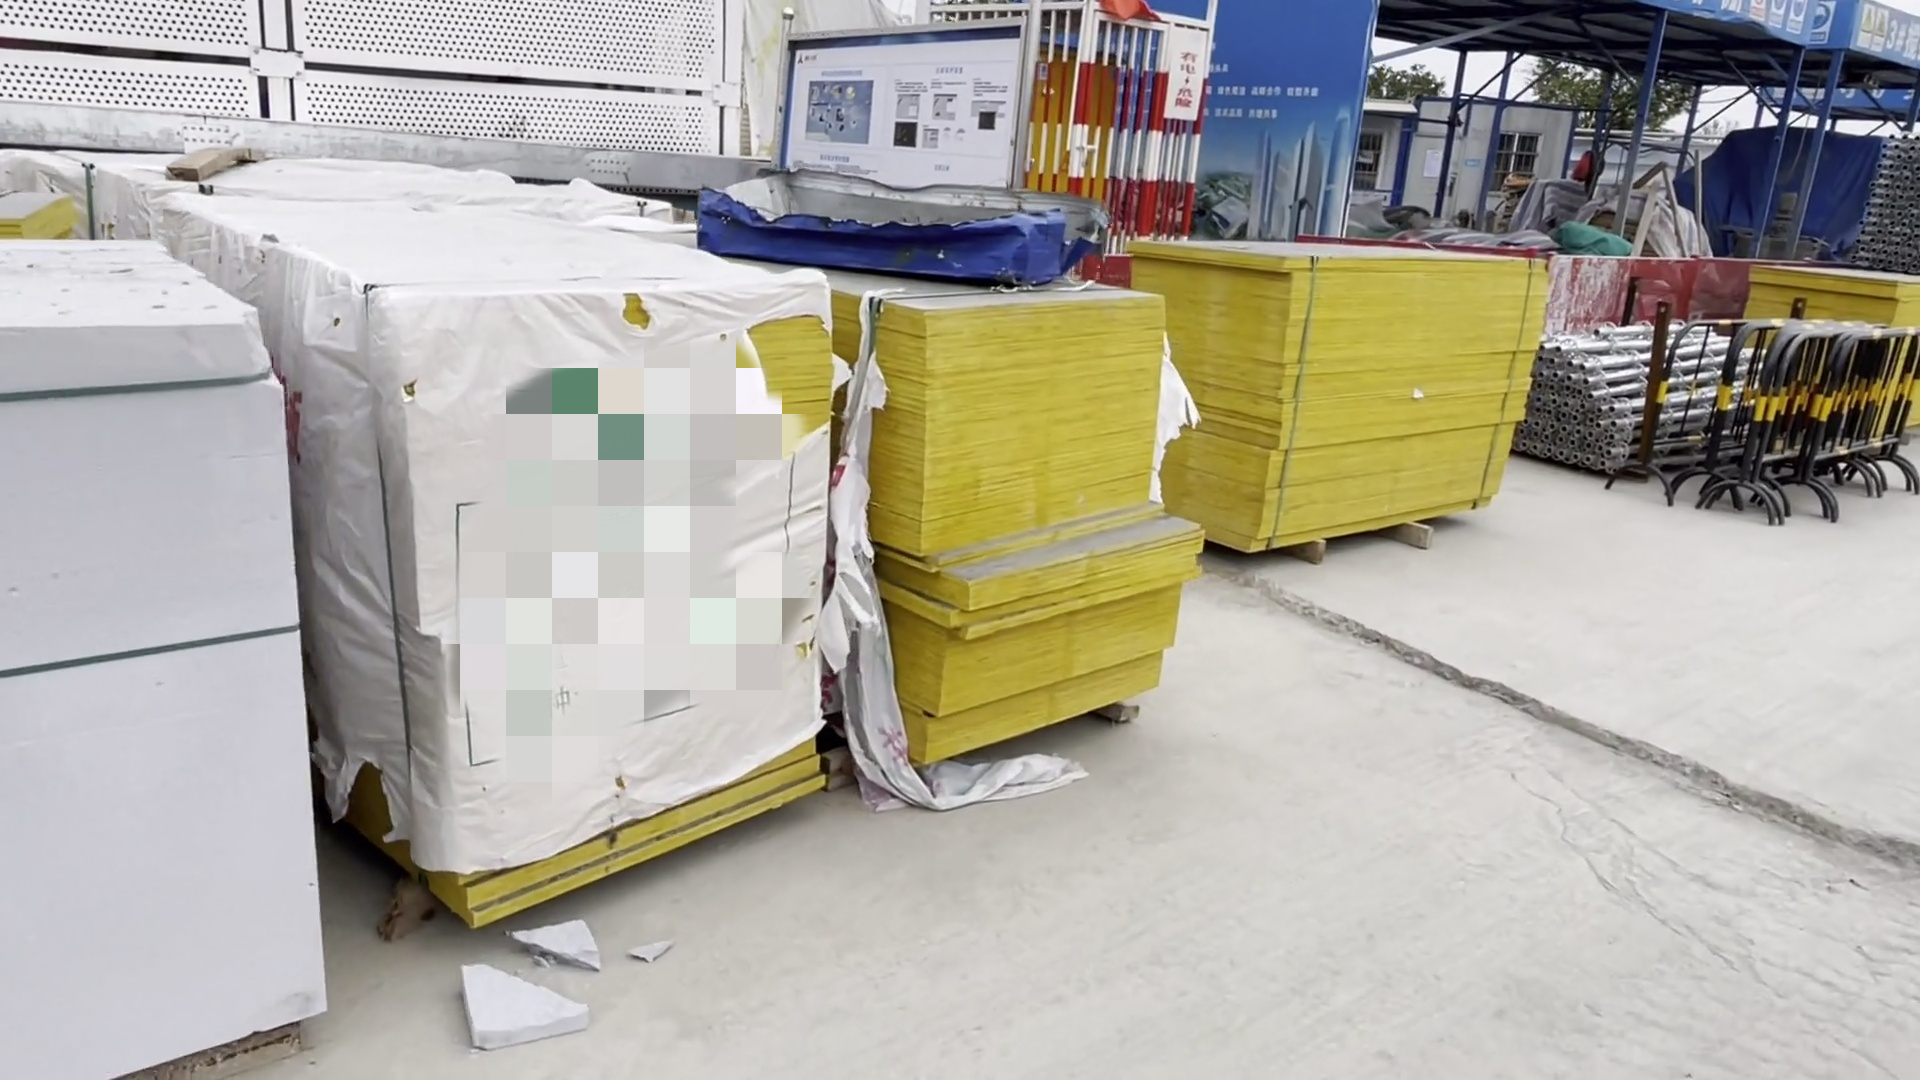board: (855, 303, 1208, 777), (1154, 227, 1560, 575)
scaffold: (1523, 338, 1771, 481)
